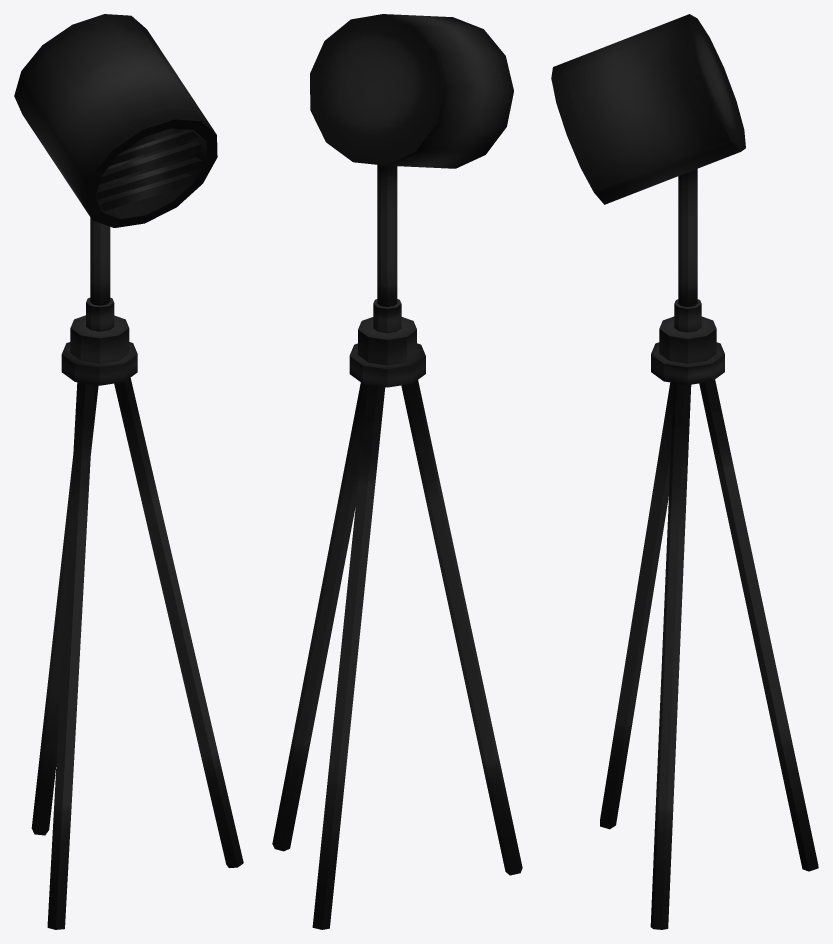
Rendered from headlight.fbx.
3 renders of one model, left to right at view 1: azimuth 30°, elevation 25°; view 2: azimuth 150°, elevation 25°; view 3: azimuth 270°, elevation 25°, orthographic. The views are drawn at different scales.
Parts seen in each view (by area): view 1: pCylinder11; view 2: pCylinder11; view 3: pCylinder11.
Boxes of the visible parts, x1,y1,x2,y2 form: pCylinder11: [14, 14, 243, 929]; pCylinder11: [272, 14, 522, 929]; pCylinder11: [551, 14, 818, 929].
Bounding box in the file's own units: 93.23 × 351 × 100.
